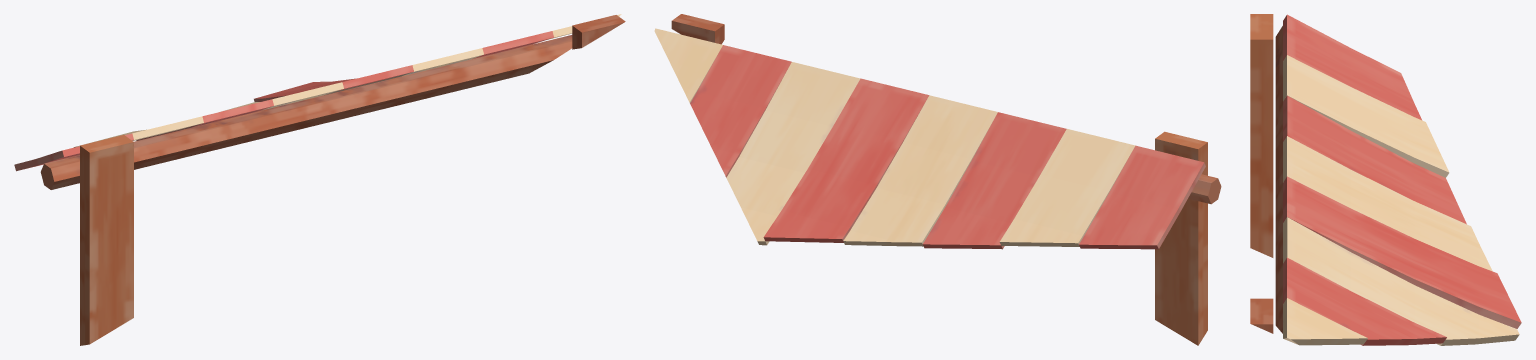
Rendered from awning_s04.fbx.
3 renders of one model, left to right at view 1: azimuth 30°, elevation 25°; view 2: azimuth 150°, elevation 25°; view 3: azimuth 270°, elevation 25°, orthographic. The views are drawn at different scales.
Visible parts, largest first — view 1: awning_s04; view 2: awning_s04; view 3: awning_s04.
Part boxes in pixels (x1,y1,x2,y2): awning_s04: (14,14,625,345); awning_s04: (654,14,1221,345); awning_s04: (1250,14,1521,345).
Size of the model in its own units: 6.74 by 2.26 by 2.34.
